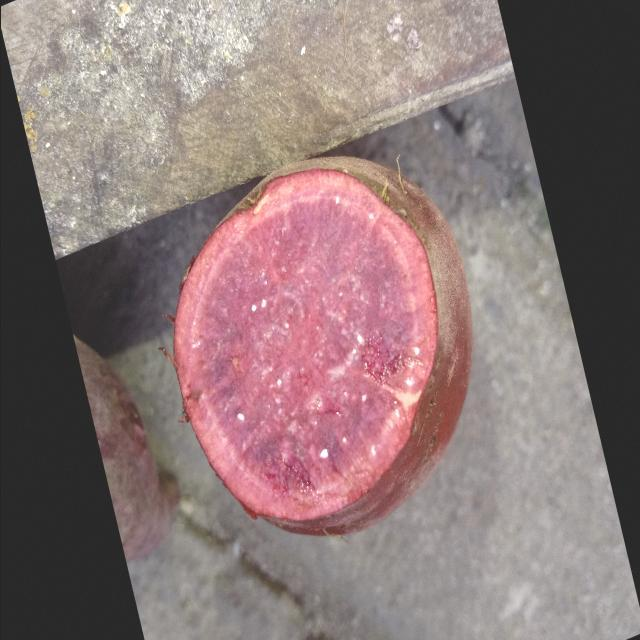Healthy Sweet Potato: (174, 170, 436, 520)
